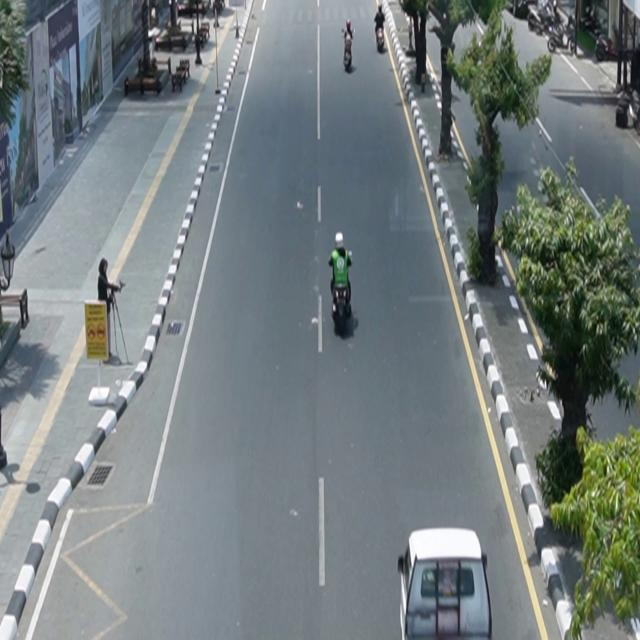car: (398, 528, 494, 640)
